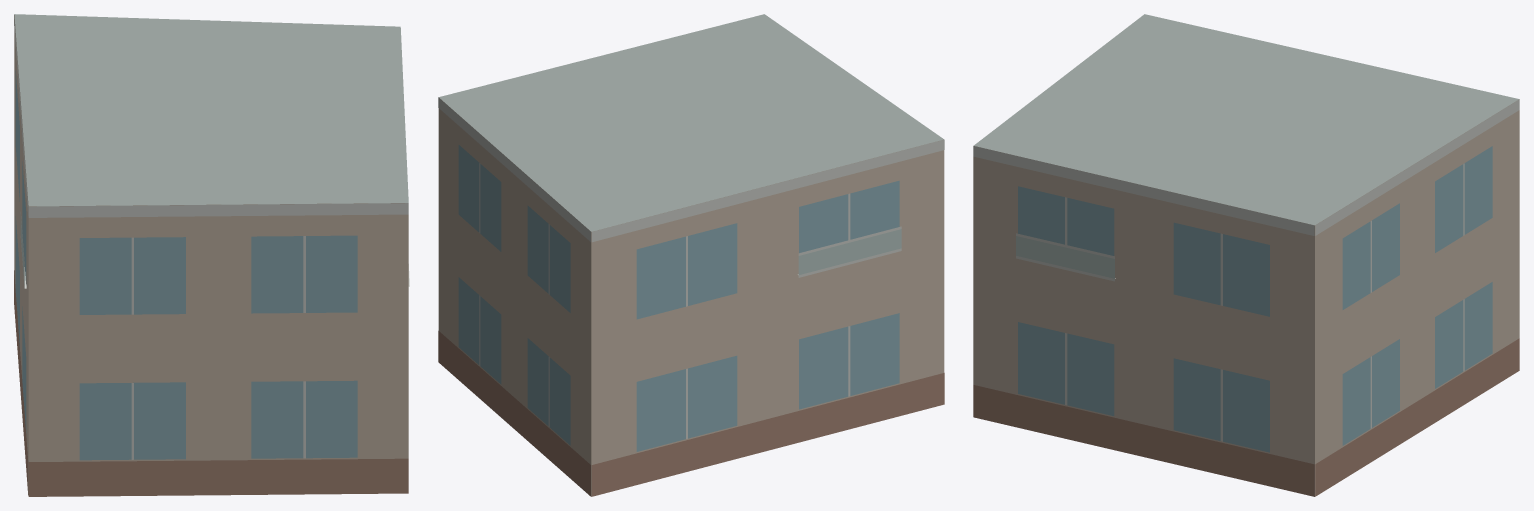
The model's file is survey-upis-32969096.glb.
3 renders of one model, left to right at view 1: azimuth 30°, elevation 25°; view 2: azimuth 150°, elevation 25°; view 3: azimuth 270°, elevation 25°, orthographic. The views are drawn at different scales.
Visible parts, largest first — view 1: survey-upis-32969096.tmp; view 2: survey-upis-32969096.tmp; view 3: survey-upis-32969096.tmp.
Boxes of the visible parts, x1,y1,x2,y2 form: survey-upis-32969096.tmp: (14,14,409,496); survey-upis-32969096.tmp: (438,14,944,496); survey-upis-32969096.tmp: (973,14,1519,496).
Size of the model in its own units: 10.19 by 6.1 by 11.13.
